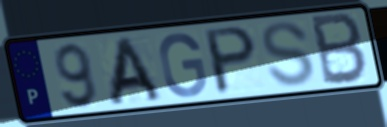9: (52, 40, 100, 110)
A: (107, 34, 165, 108)
B: (309, 11, 369, 88)
G: (156, 30, 210, 100)
P: (202, 23, 259, 98)
S: (259, 20, 318, 89)
